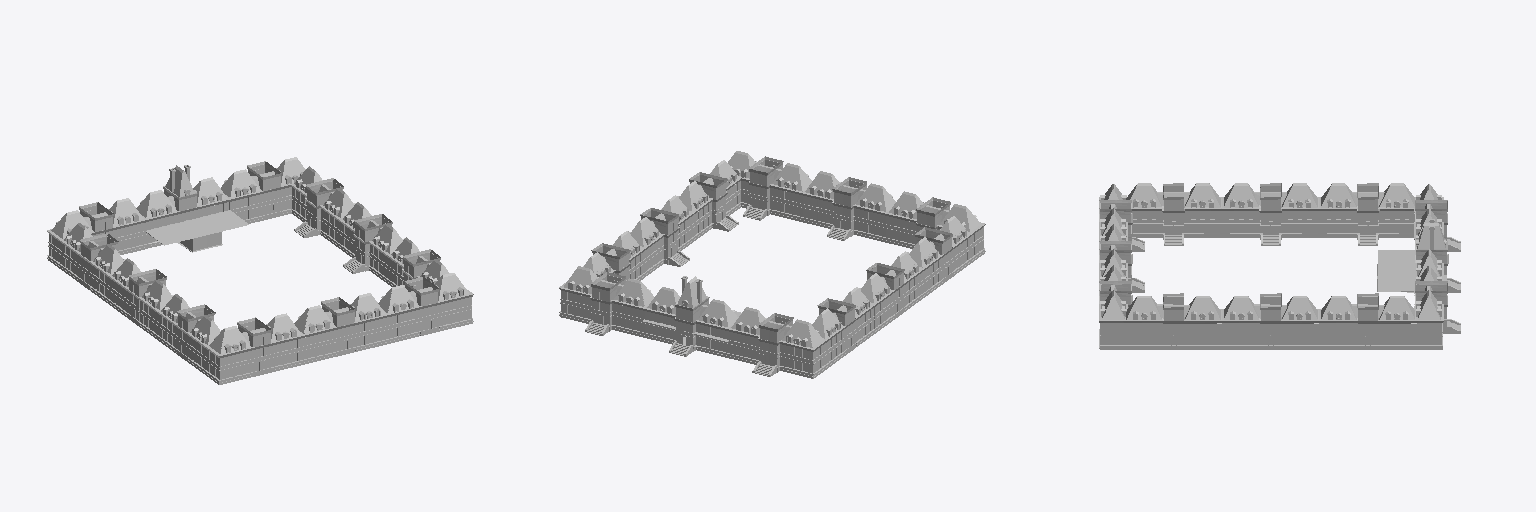
3 renders of one model, left to right at view 1: azimuth 30°, elevation 25°; view 2: azimuth 150°, elevation 25°; view 3: azimuth 270°, elevation 25°, orthographic.
Visible parts, largest first — view 1: SM_Palace.004; view 2: SM_Palace.004; view 3: SM_Palace.004.
Part boxes in pixels (x1,y1,x2,y2): SM_Palace.004: (47, 157, 473, 384); SM_Palace.004: (559, 151, 985, 378); SM_Palace.004: (1099, 183, 1460, 349).
Size of the model in its own units: 153 by 37.39 by 189.